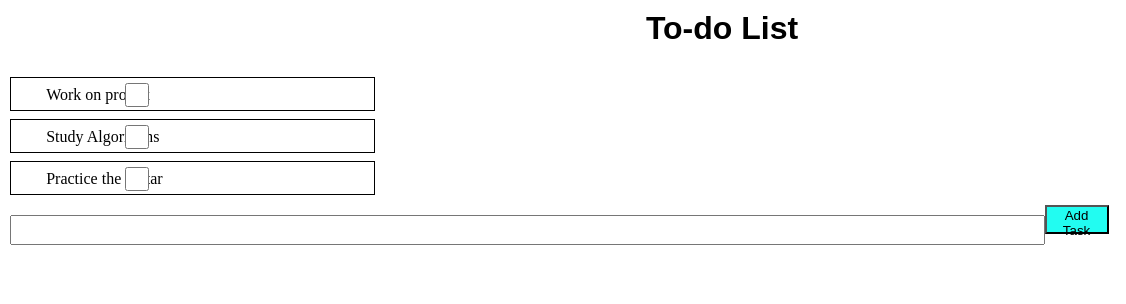
it: (Component) Todos › AddTask should add a new task to tasks
The width and height of the screenshot is (1126, 304).
Click the button "Add Task" at (1076, 219), box [1044,205,1108,234]
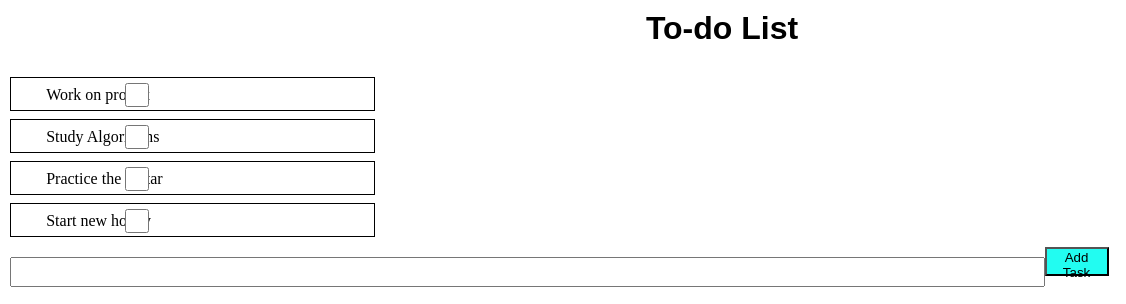
expect the text "Start new hobby" is shown: met, box [10,203,375,237]
